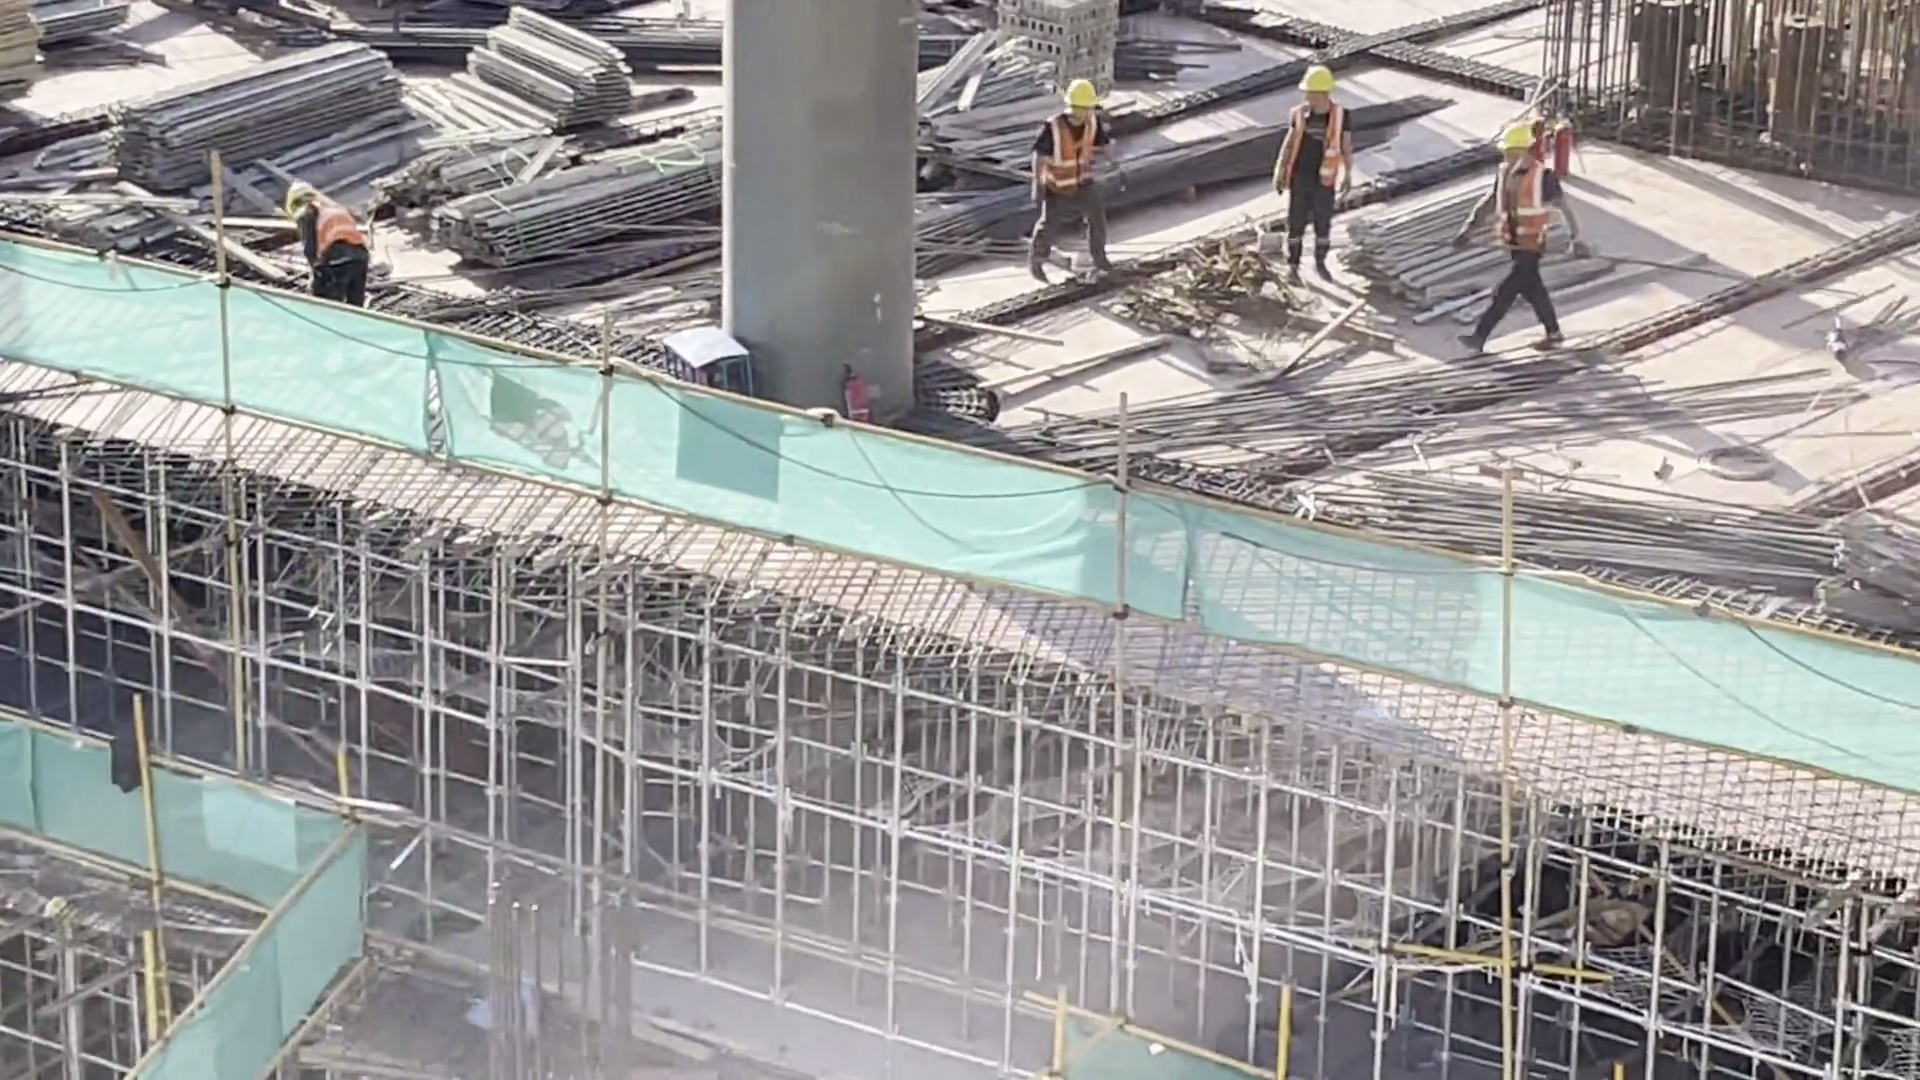helmet: (1492, 116, 1541, 159), (1057, 75, 1097, 118), (1294, 65, 1333, 97), (285, 175, 308, 208)
person: (1463, 122, 1570, 313), (254, 164, 371, 334), (1018, 71, 1110, 276), (1288, 46, 1343, 279)
vest: (1293, 97, 1355, 185), (1498, 167, 1555, 253), (1038, 126, 1105, 198), (302, 193, 365, 261)
wood: (119, 31, 412, 198), (406, 135, 729, 278), (1352, 161, 1573, 312), (456, 4, 643, 148)
